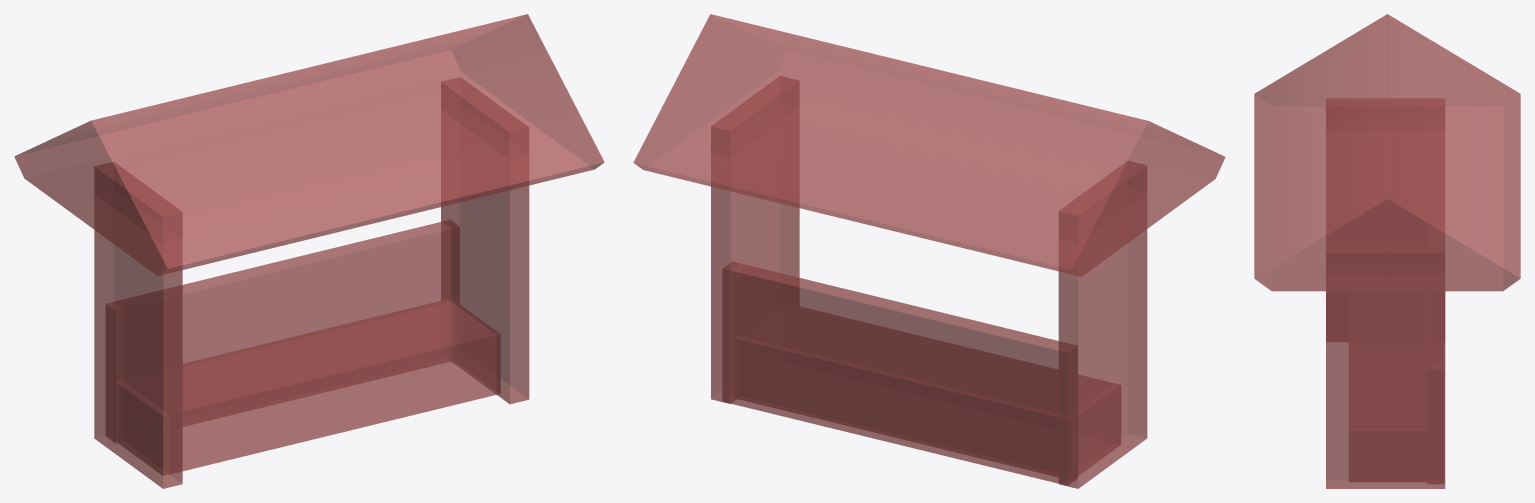
Rendered from SM_Prop_Bench_02_Collision.fbx.
3 views of the same model, side by side, from view 1: azimuth 30°, elevation 25°; view 2: azimuth 150°, elevation 25°; view 3: azimuth 270°, elevation 25° (orthographic). The views are drawn at different scales.
Parts seen in each view (by area): view 1: SM_Prop_Bench_02_Collision; view 2: SM_Prop_Bench_02_Collision; view 3: SM_Prop_Bench_02_Collision.
Part boxes in pixels (bbox=[...]): SM_Prop_Bench_02_Collision: bbox=[14, 14, 604, 488]; SM_Prop_Bench_02_Collision: bbox=[633, 14, 1225, 488]; SM_Prop_Bench_02_Collision: bbox=[1254, 14, 1520, 488].
Size of the model in its own units: 336 by 258 by 205.
